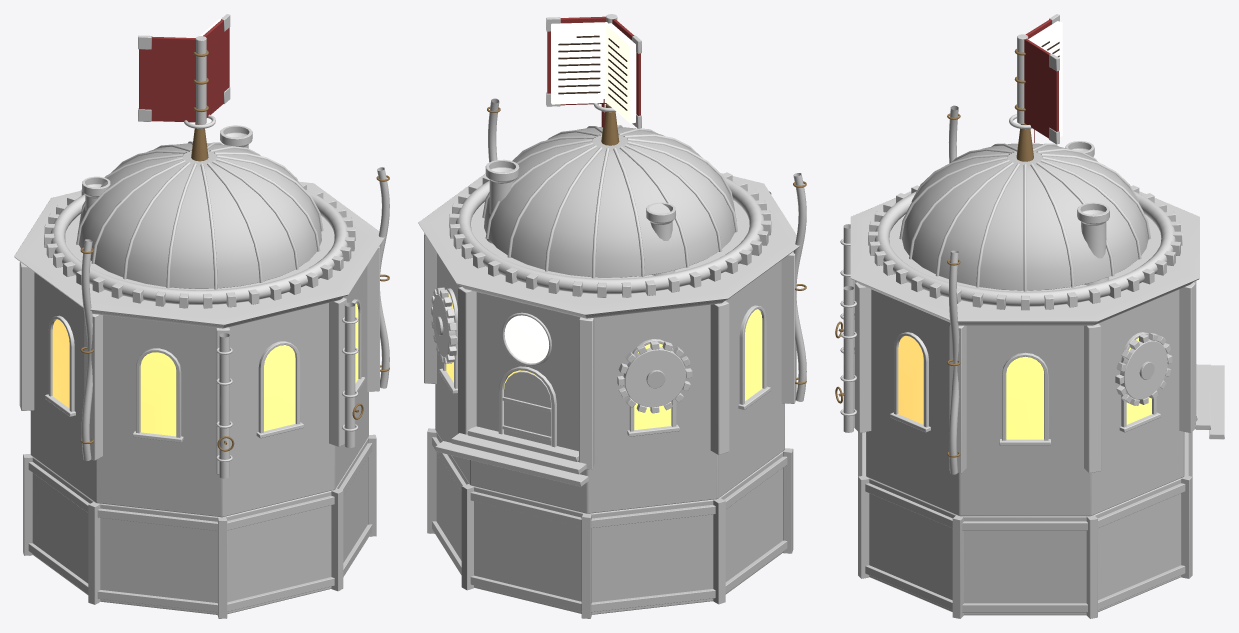
The model's file is library.glb.
The picture shows the model from 3 angles, left to right: view 1: azimuth 30°, elevation 25°; view 2: azimuth 150°, elevation 25°; view 3: azimuth 270°, elevation 25°; orthographic projection. The views are drawn at different scales.
Parts seen in each view (by area): view 1: ground__iron_decay, basement__iron_decay, crown__iron_decay, crown__trim_brass, ground__trim_brass, crown__brass_pipe, ground__window_glass, ground__brass_pipe, icon__book_leather, icon__brass_pipe, crown__soot_iron, ground__bronze; view 2: ground__iron_decay, basement__iron_decay, crown__iron_decay, ground__trim_brass, crown__trim_brass, crown__brass_pipe, ground__brass_pipe, icon__page_glow, ground__stone_decay, ground__window_glass, crown__soot_iron, ground__clock_face (+3 smaller); view 3: ground__iron_decay, basement__iron_decay, crown__iron_decay, crown__trim_brass, ground__trim_brass, crown__brass_pipe, ground__brass_pipe, ground__window_glass, icon__book_leather, ground__stone_decay, crown__soot_iron, icon__brass_pipe (+1 smaller).
Boxes of the visible parts, bbox=[...] form: ground__iron_decay: bbox=[30, 265, 368, 517]; basement__iron_decay: bbox=[23, 434, 376, 618]; crown__iron_decay: bbox=[77, 143, 321, 288]; crown__trim_brass: bbox=[14, 141, 384, 328]; ground__trim_brass: bbox=[19, 246, 379, 474]; crown__brass_pipe: bbox=[44, 114, 355, 308]; ground__window_glass: bbox=[52, 303, 358, 436]; ground__brass_pipe: bbox=[81, 167, 389, 478]; icon__book_leather: bbox=[139, 19, 229, 122]; icon__brass_pipe: bbox=[138, 14, 230, 124]; crown__soot_iron: bbox=[82, 125, 252, 210]; ground__bronze: bbox=[80, 175, 389, 451]; ground__iron_decay: bbox=[435, 253, 784, 513]; basement__iron_decay: bbox=[427, 428, 793, 618]; crown__iron_decay: bbox=[484, 127, 736, 277]; ground__trim_brass: bbox=[424, 233, 796, 469]; crown__trim_brass: bbox=[418, 125, 799, 318]; crown__brass_pipe: bbox=[449, 103, 771, 297]; ground__brass_pipe: bbox=[431, 98, 806, 413]; icon__page_glow: bbox=[551, 22, 636, 123]; ground__stone_decay: bbox=[435, 426, 588, 486]; ground__window_glass: bbox=[446, 293, 762, 433]; crown__soot_iron: bbox=[485, 159, 675, 275]; ground__clock_face: bbox=[504, 315, 549, 363]; ground__iron_decay: bbox=[866, 289, 1184, 516]; basement__iron_decay: bbox=[858, 432, 1192, 618]; crown__iron_decay: bbox=[902, 143, 1148, 290]; crown__trim_brass: bbox=[850, 143, 1199, 325]; ground__trim_brass: bbox=[854, 281, 1196, 473]; crown__brass_pipe: bbox=[868, 114, 1182, 310]; ground__brass_pipe: bbox=[840, 105, 1172, 474]; ground__window_glass: bbox=[898, 336, 1151, 439]; icon__book_leather: bbox=[1024, 19, 1058, 142]; ground__stone_decay: bbox=[1195, 364, 1224, 439]; crown__soot_iron: bbox=[1065, 141, 1109, 285]; icon__brass_pipe: bbox=[1017, 14, 1059, 144].
Bounding box in the file's own units: 10.5 × 16.53 × 11.39.
